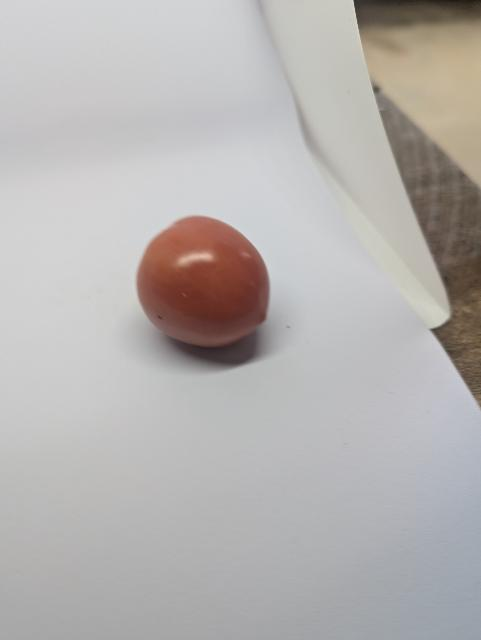red: (120, 203, 282, 363)
